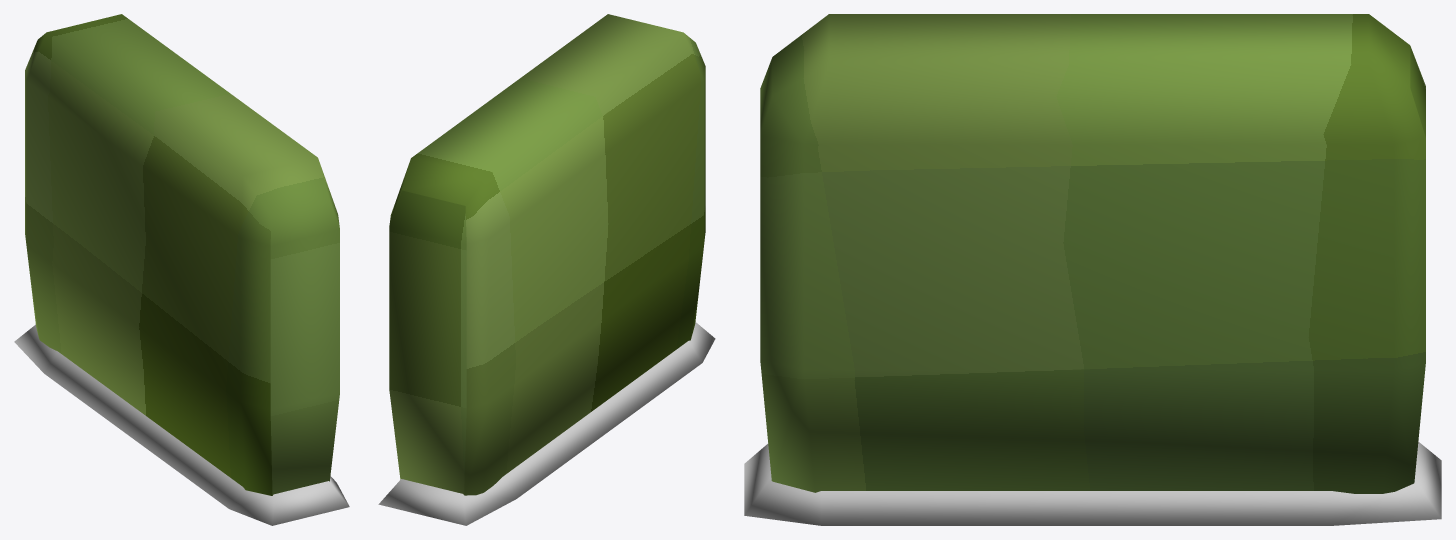
Rendered from JpHouseJ_Hedge01a.fbx.
3 views of the same model, side by side, from view 1: azimuth 30°, elevation 25°; view 2: azimuth 150°, elevation 25°; view 3: azimuth 270°, elevation 25° (orthographic). The views are drawn at different scales.
Visible parts, largest first — view 1: JpHouseJ_Hedge01a; view 2: JpHouseJ_Hedge01a; view 3: JpHouseJ_Hedge01a.
Boxes of the visible parts, left/top/right/bottom form: JpHouseJ_Hedge01a: left=14, top=14, right=349, bottom=525; JpHouseJ_Hedge01a: left=378, top=14, right=715, bottom=525; JpHouseJ_Hedge01a: left=744, top=14, right=1441, bottom=525.
Bounding box in the file's own units: 0.5541 × 1.61 × 2.25.
